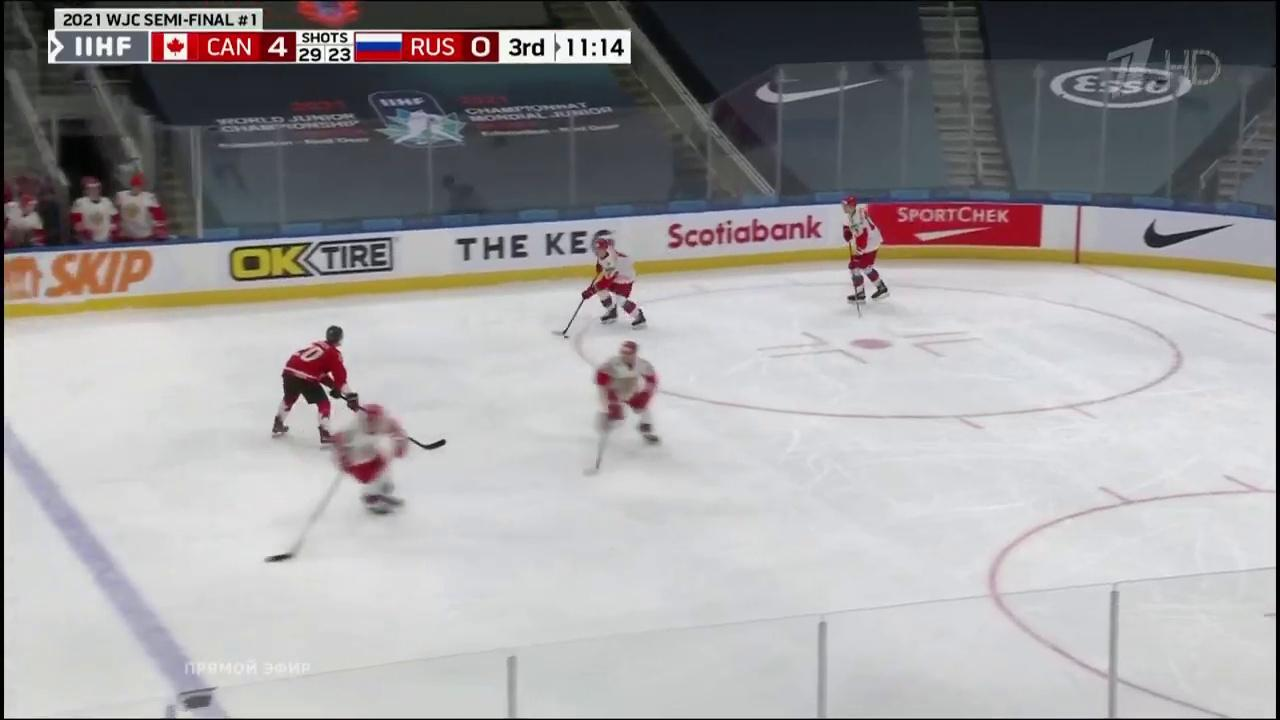ball: (564, 336, 570, 340)
